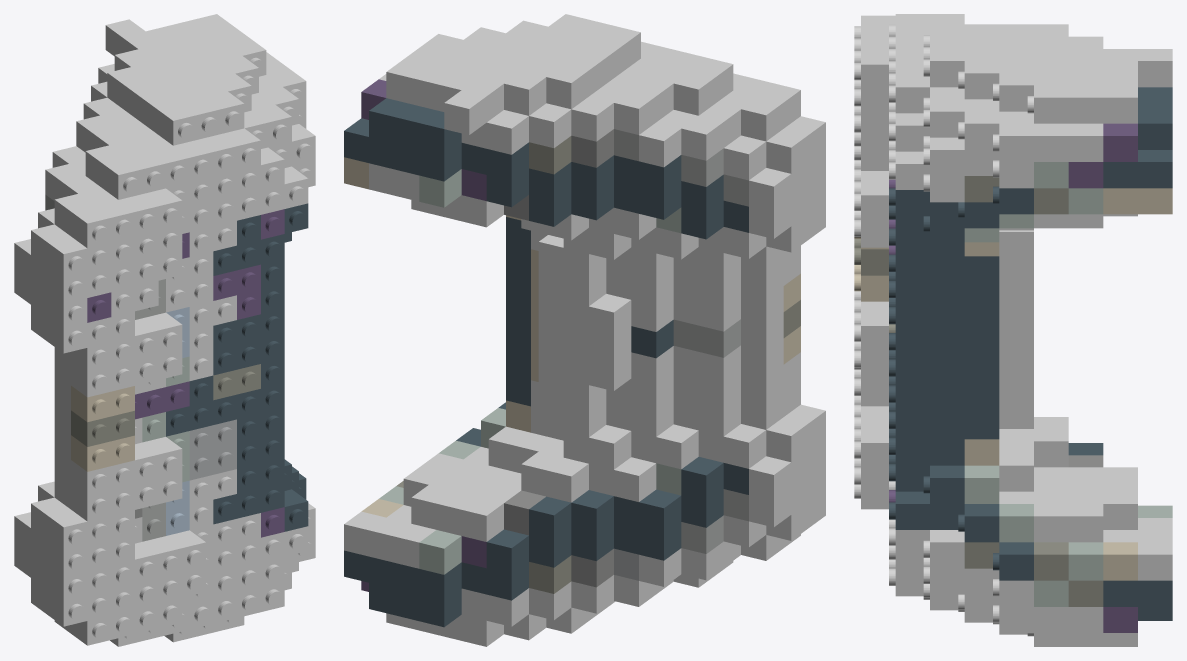
Rendered from full.glb.
The picture shows the model from 3 angles, left to right: view 1: azimuth 30°, elevation 25°; view 2: azimuth 150°, elevation 25°; view 3: azimuth 270°, elevation 25°; orthographic projection. The views are drawn at different scales.
Parts seen in each view (by area): view 1: world; view 2: world; view 3: world.
Boxes of the visible parts, box(x1,y1,x2,y2) form: world: box(14, 14, 315, 646); world: box(344, 14, 825, 646); world: box(854, 14, 1172, 646).
Size of the model in its own units: 104 by 168 by 88.2.
